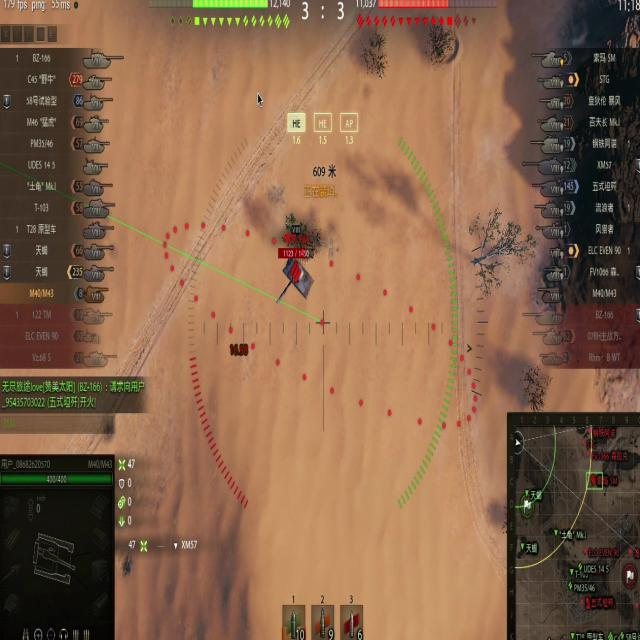tank: (276, 244, 326, 301)
